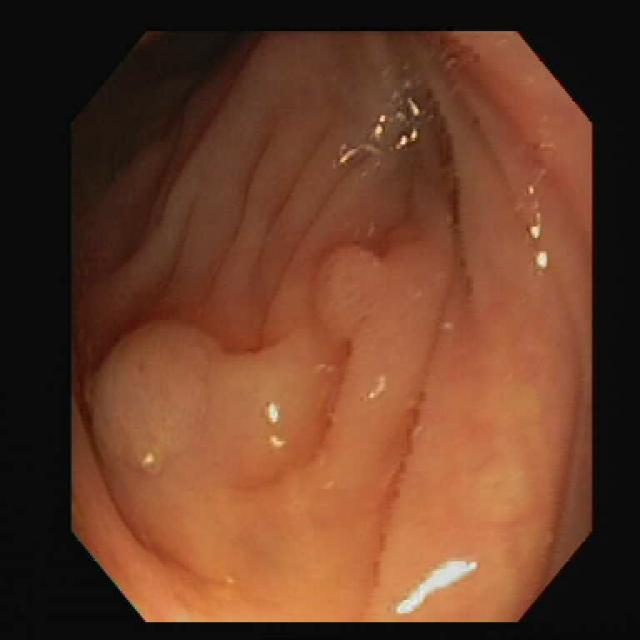tumor: (90, 327, 377, 582), (318, 247, 410, 329)
